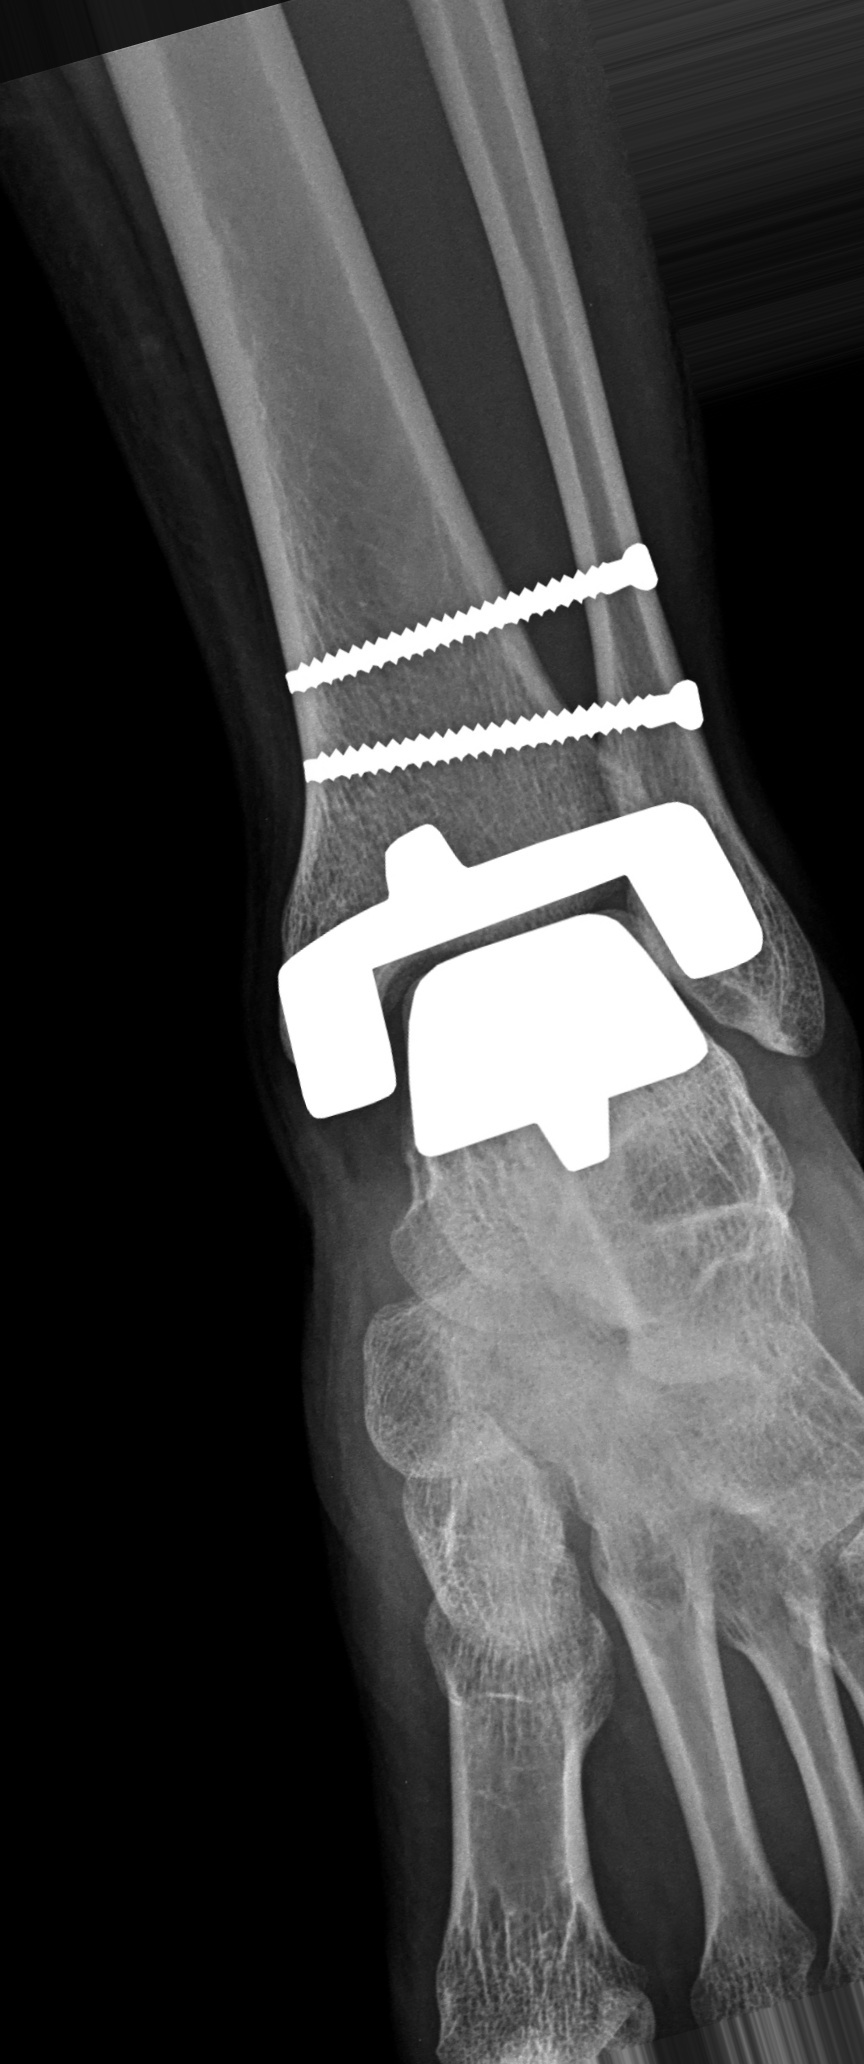Ankle - Agility - DePuy: (204, 524, 761, 1200)
